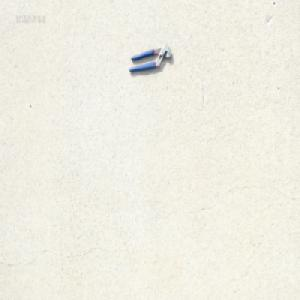Pliers: (127, 42, 172, 72)
